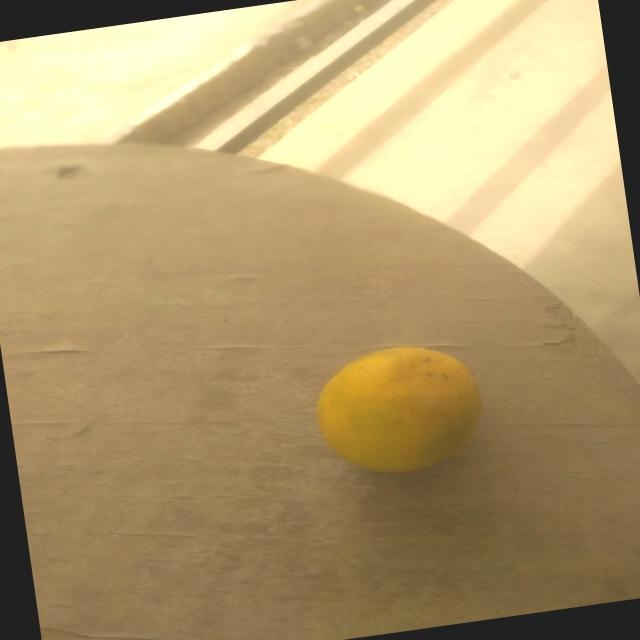agrume: (291, 325, 500, 495)
